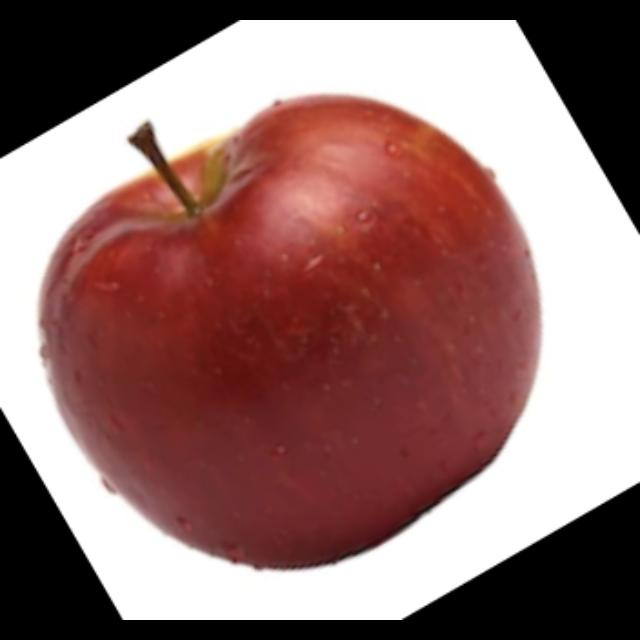Apel Segar: (26, 79, 554, 582)
